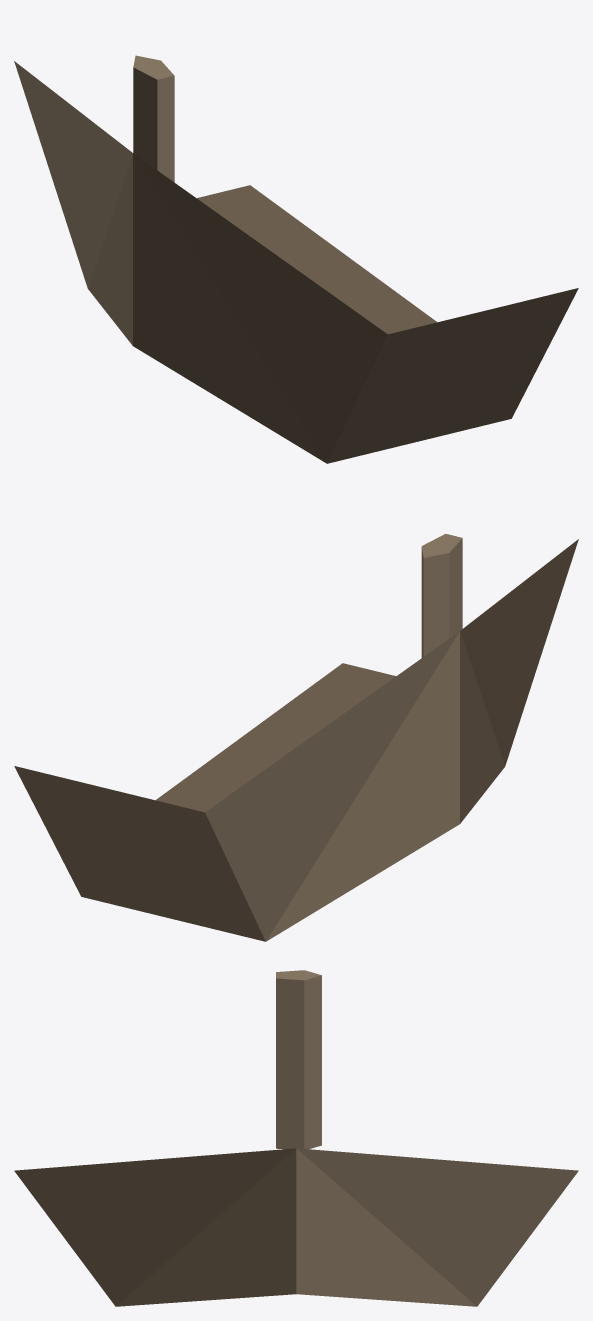
The model's file is sunken_bow.glb.
3 views of the same model, one above another, from view 1: azimuth 30°, elevation 25°; view 2: azimuth 150°, elevation 25°; view 3: azimuth 270°, elevation 25° (orthographic). The views are drawn at different scales.
Visible parts, largest first — view 1: sunken_bow; view 2: sunken_bow; view 3: sunken_bow.
Boxes of the visible parts, left/top/right/bottom form: sunken_bow: left=14, top=55, right=578, bottom=463; sunken_bow: left=14, top=533, right=578, bottom=941; sunken_bow: left=14, top=970, right=578, bottom=1306.
Bounding box in the file's own units: 2 × 1.9 × 4.
